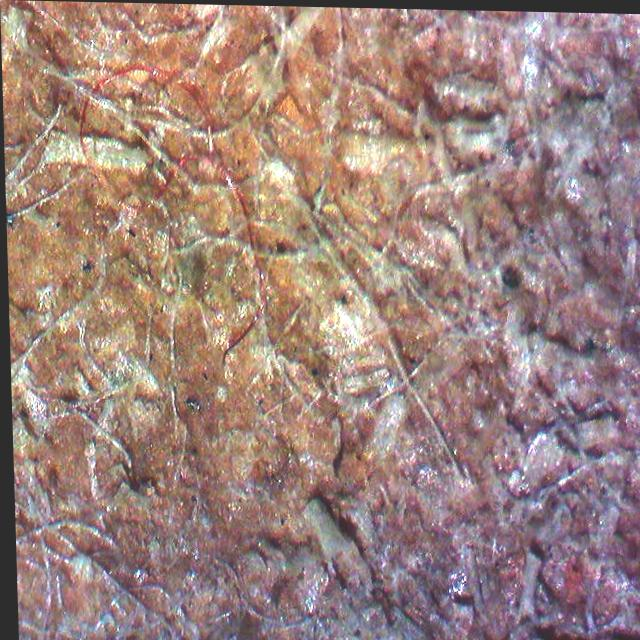microplastic: (130, 147, 267, 355), (78, 64, 214, 180)
